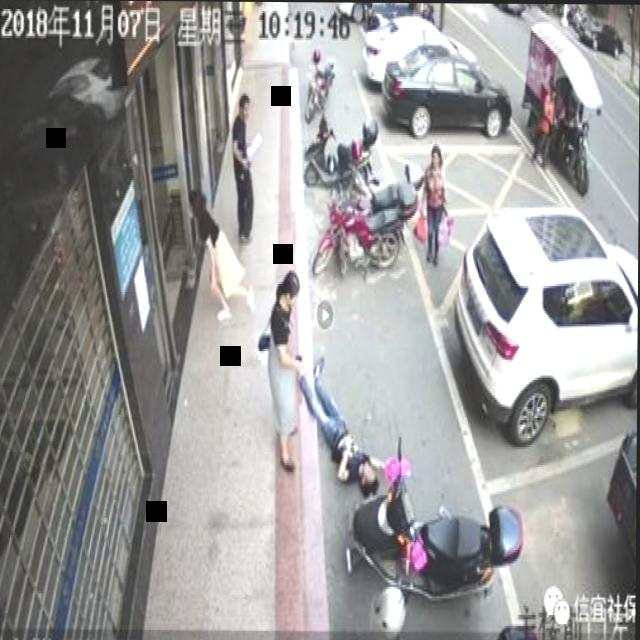Fall-Detected: (291, 340, 391, 496)
